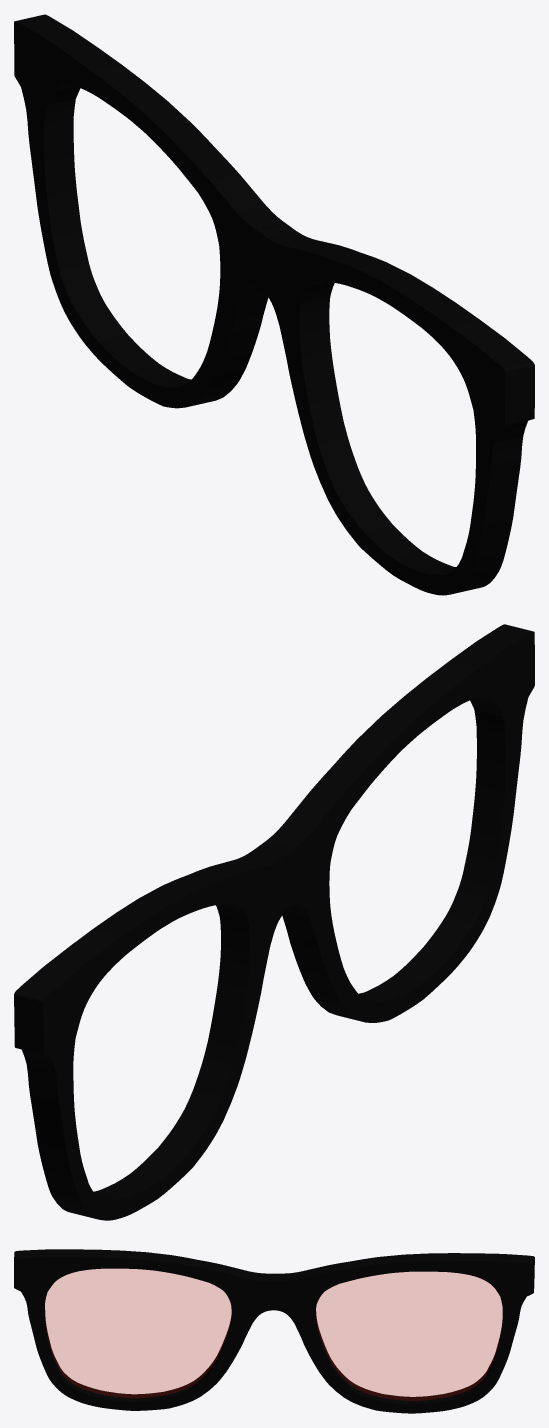
The picture shows the model from 3 angles, top to bottom: view 1: azimuth 30°, elevation 25°; view 2: azimuth 150°, elevation 25°; view 3: azimuth 270°, elevation 25°; orthographic projection. The views are drawn at different scales.
Visible parts, largest first — view 1: Plane; view 2: Plane; view 3: Plane, Plane.002, Plane.001.
Part boxes in pixels (x1=…): Plane: x1=14, y1=14, x2=534, y2=595; Plane: x1=14, y1=624, x2=534, y2=1220; Plane: x1=14, y1=1249, x2=534, y2=1413; Plane.002: x1=316, y1=1272, x2=502, y2=1400; Plane.001: x1=45, y1=1269, x2=231, y2=1397.
Bounding box in the file's own units: 0.1737 × 1.65 × 4.98.
